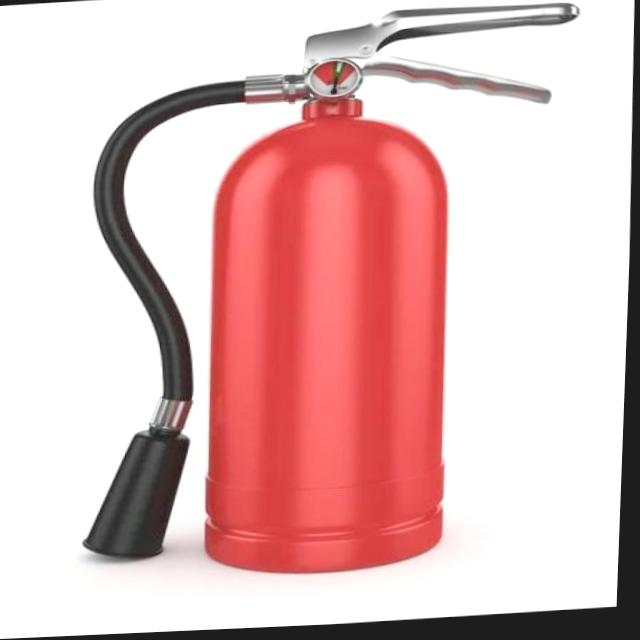FireExtinguisher: (64, 0, 592, 592)
